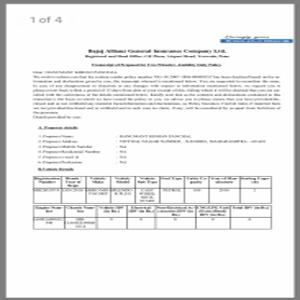table: (34, 176, 272, 202), (34, 205, 271, 230)
text: (32, 69, 284, 121), (35, 124, 268, 174), (84, 45, 231, 60), (90, 61, 226, 69)
